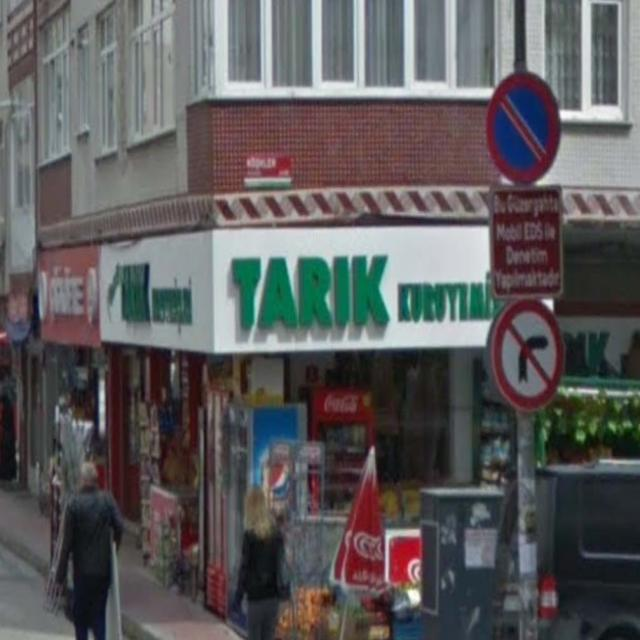parkyasak: (486, 74, 561, 184)
sagadonulmez: (490, 299, 564, 412)
